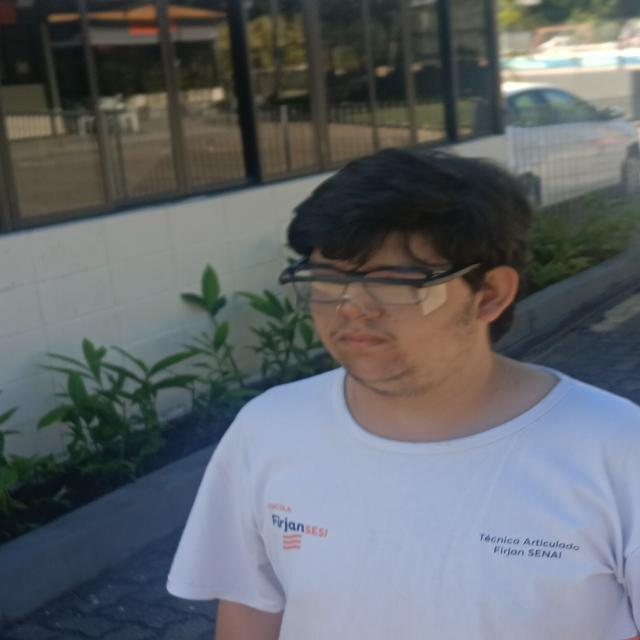oculos-epi: (279, 258, 479, 317)
